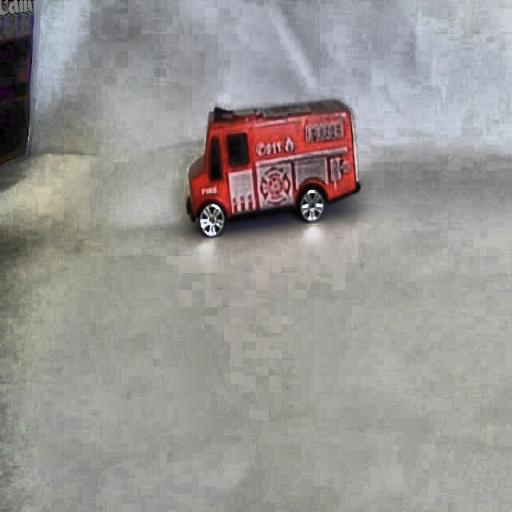fire_truck: (181, 97, 363, 243), (287, 103, 350, 141)
